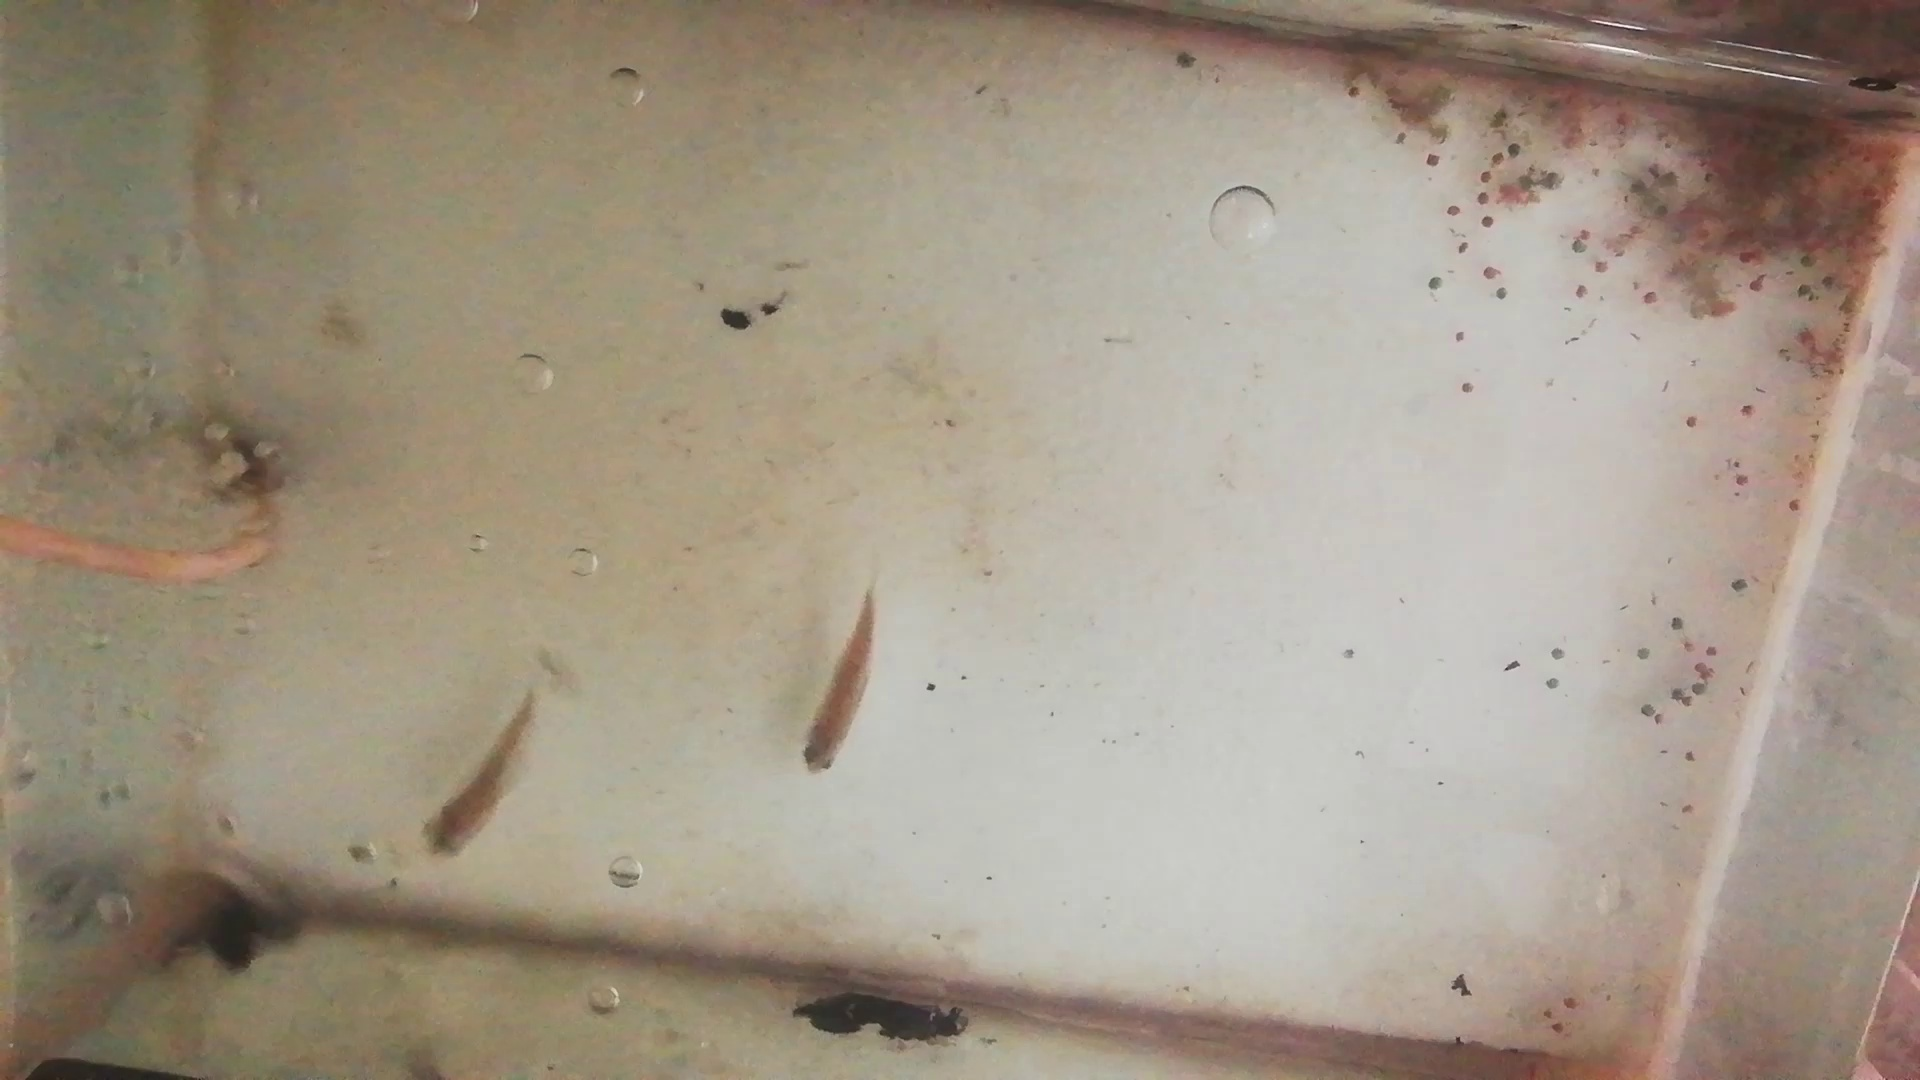fish: (425, 700, 549, 858), (799, 588, 880, 779)
